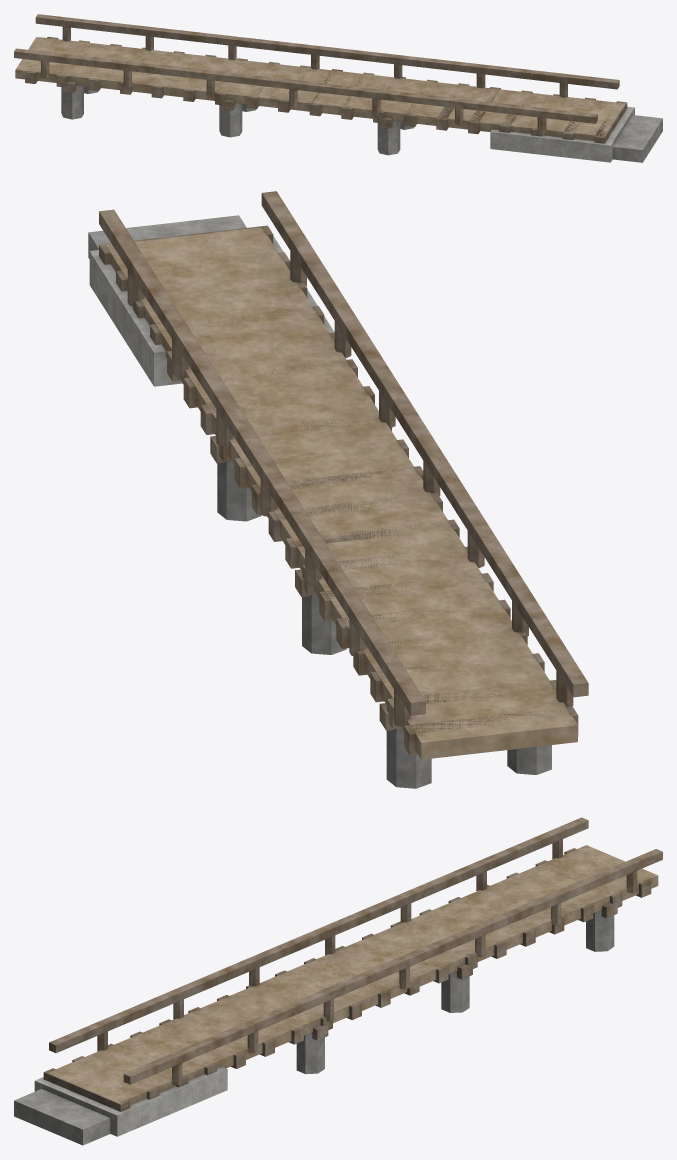
The model's file is bridge_long.glb.
The picture shows the model from 3 angles, top to bottom: view 1: azimuth 30°, elevation 25°; view 2: azimuth 150°, elevation 25°; view 3: azimuth 270°, elevation 25°; orthographic projection. The views are drawn at different scales.
Visible parts, largest first — view 1: dilek; view 2: dilek; view 3: dilek.
Part boxes in pixels (left/top/right/bottom): dilek: left=14, top=14, right=662, bottom=162; dilek: left=88, top=191, right=588, bottom=788; dilek: left=14, top=817, right=662, bottom=1145.
Bounding box in the file's own units: 3.33 × 0.445 × 3.33.
1 material, 1 textured.
